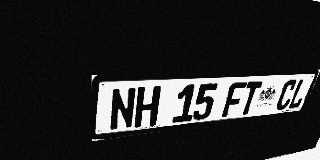1: (172, 84, 199, 123)
5: (192, 83, 218, 121)
C: (274, 79, 299, 111)
F: (221, 82, 247, 117)
H: (134, 86, 161, 128)
L: (287, 79, 311, 109)
N: (109, 87, 137, 131)
T: (238, 81, 263, 115)
